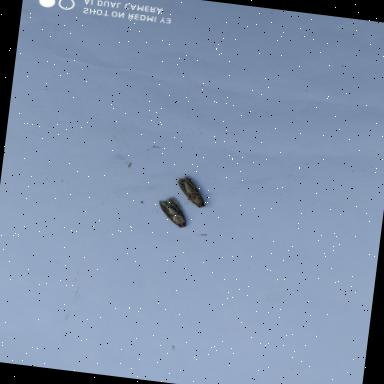pbw: (172, 172, 217, 212), (154, 193, 192, 231)
